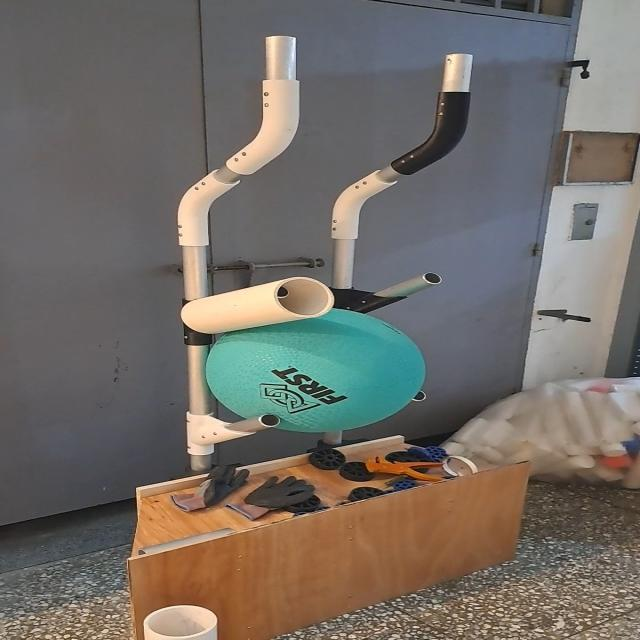ALGAE: (202, 306, 426, 434)
CORAL: (180, 275, 336, 335), (133, 601, 217, 640)
